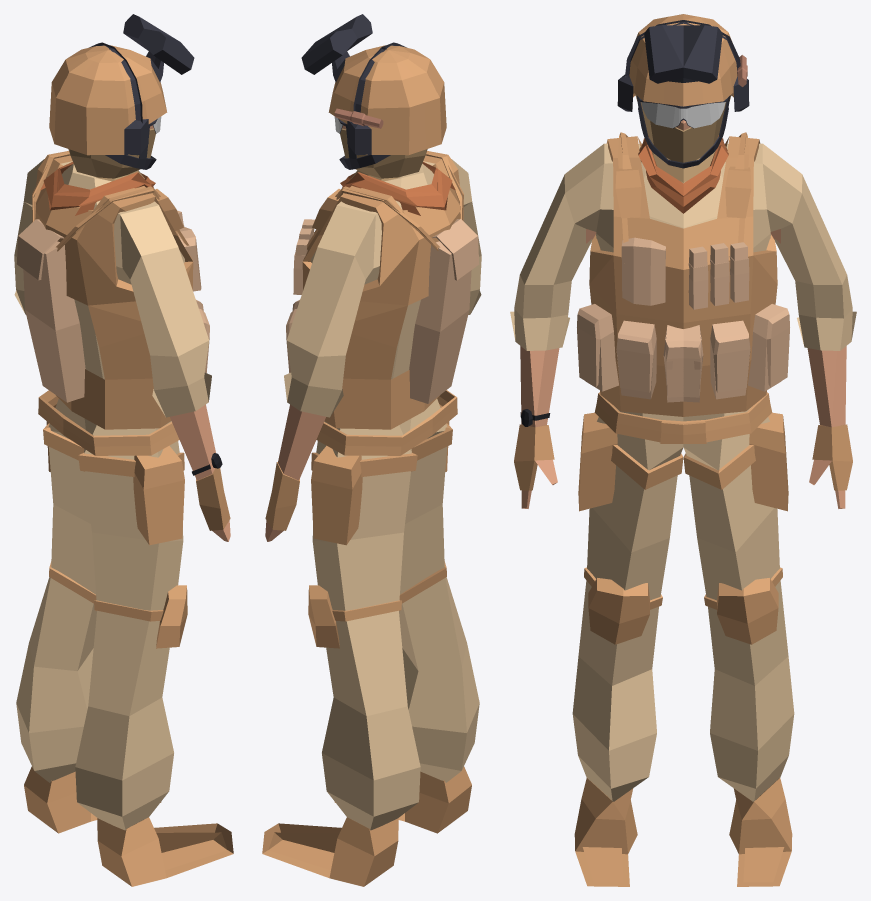
The model's file is Soldier2.glb.
3 renders of one model, left to right at view 1: azimuth 30°, elevation 25°; view 2: azimuth 150°, elevation 25°; view 3: azimuth 270°, elevation 25°, orthographic. The views are drawn at different scales.
Visible parts, largest first — view 1: my_dude; view 2: my_dude; view 3: my_dude.
Boxes of the visible parts, left/top/right/bottom form: my_dude: left=14, top=14, right=233, bottom=886; my_dude: left=262, top=14, right=481, bottom=886; my_dude: left=510, top=14, right=856, bottom=886.
Bounding box in the file's own units: 1.13 × 5.16 × 1.92.
